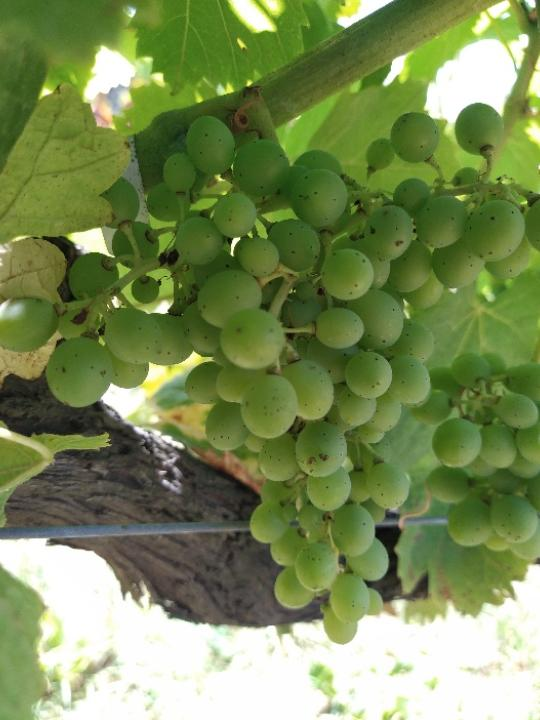grape: (0, 102, 540, 645)
